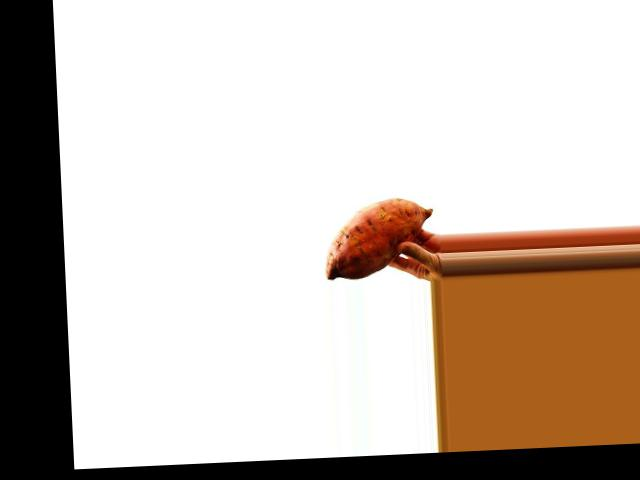sweet_potato: (319, 190, 431, 283)
